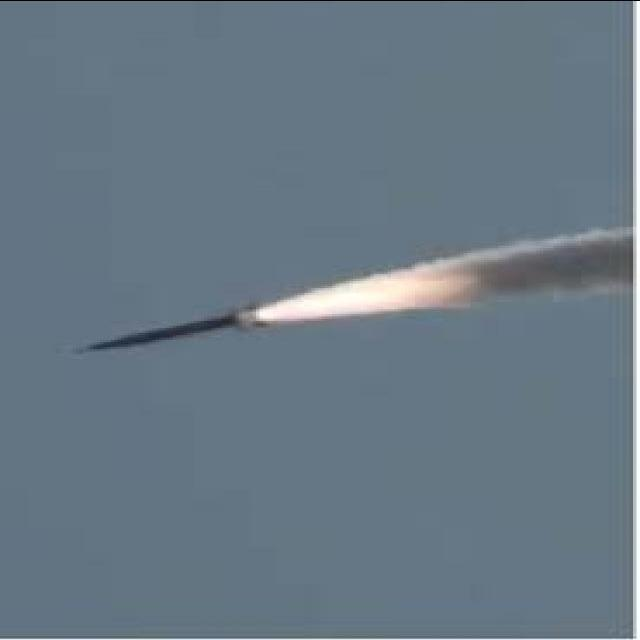Missile: (83, 302, 263, 358)
